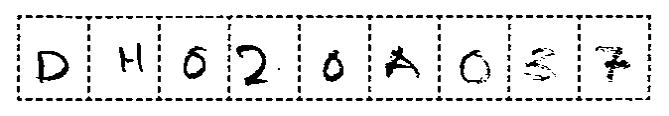0: (451, 46, 496, 90), (315, 43, 351, 86), (178, 42, 212, 84)
2: (234, 40, 275, 88)
3: (521, 41, 562, 87)
7: (587, 41, 633, 87)
A: (380, 41, 427, 86)
D: (31, 47, 76, 86)
H: (112, 37, 150, 79)
